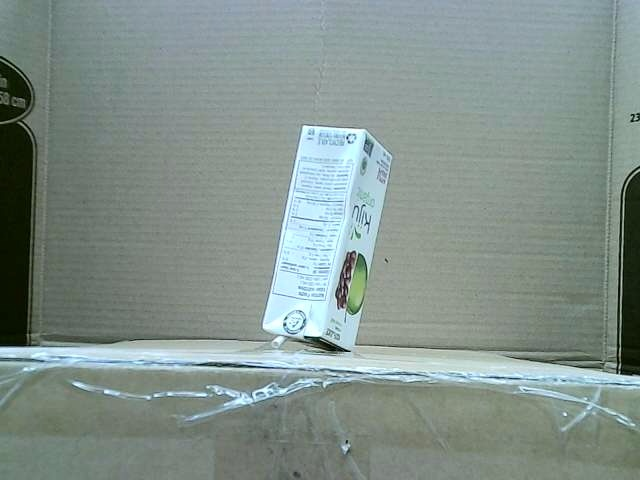JuiceBox: (261, 124, 393, 354)
